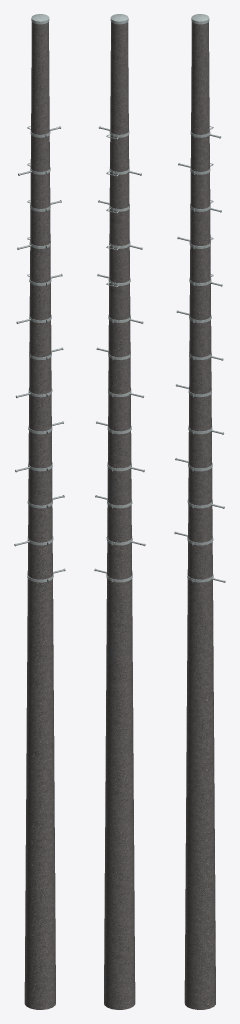
File: pole_body_tapered_12m_visible10m.glb
3 renders of one model, left to right at view 1: azimuth 30°, elevation 25°; view 2: azimuth 150°, elevation 25°; view 3: azimuth 330°, elevation 25°, orthographic.
Parts seen in each view (by area): view 1: pole_body_tapered_12m_visible10m; view 2: pole_body_tapered_12m_visible10m; view 3: pole_body_tapered_12m_visible10m.
Part boxes in pixels (x1,y1,x2,y2): pole_body_tapered_12m_visible10m: [14, 14, 65, 1009]; pole_body_tapered_12m_visible10m: [94, 14, 145, 1009]; pole_body_tapered_12m_visible10m: [174, 14, 225, 1009].
Size of the model in its own units: 0.6388 by 12.02 by 0.3576.
Materials: 1 (1 with a texture image).
